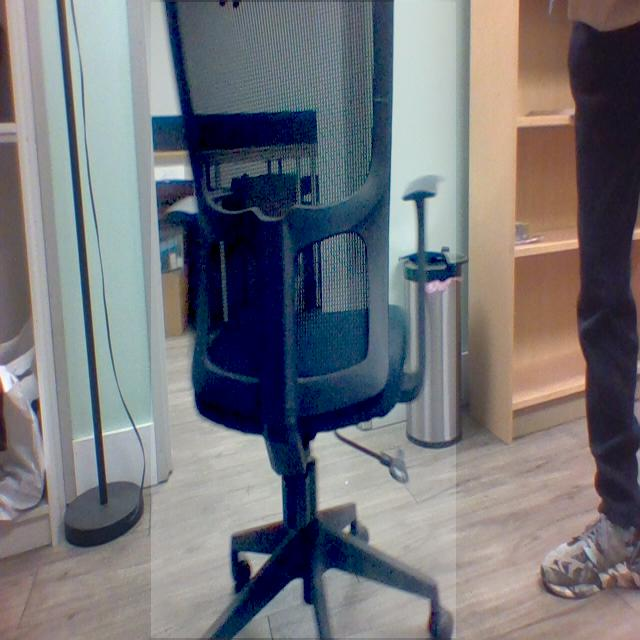black-chair: (151, 2, 457, 639)
